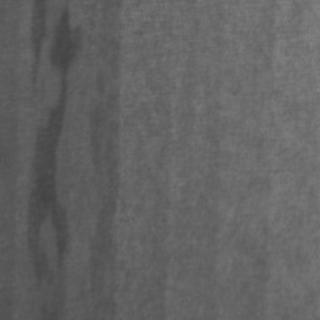inclusion: (12, 0, 80, 286), (80, 1, 124, 316)
